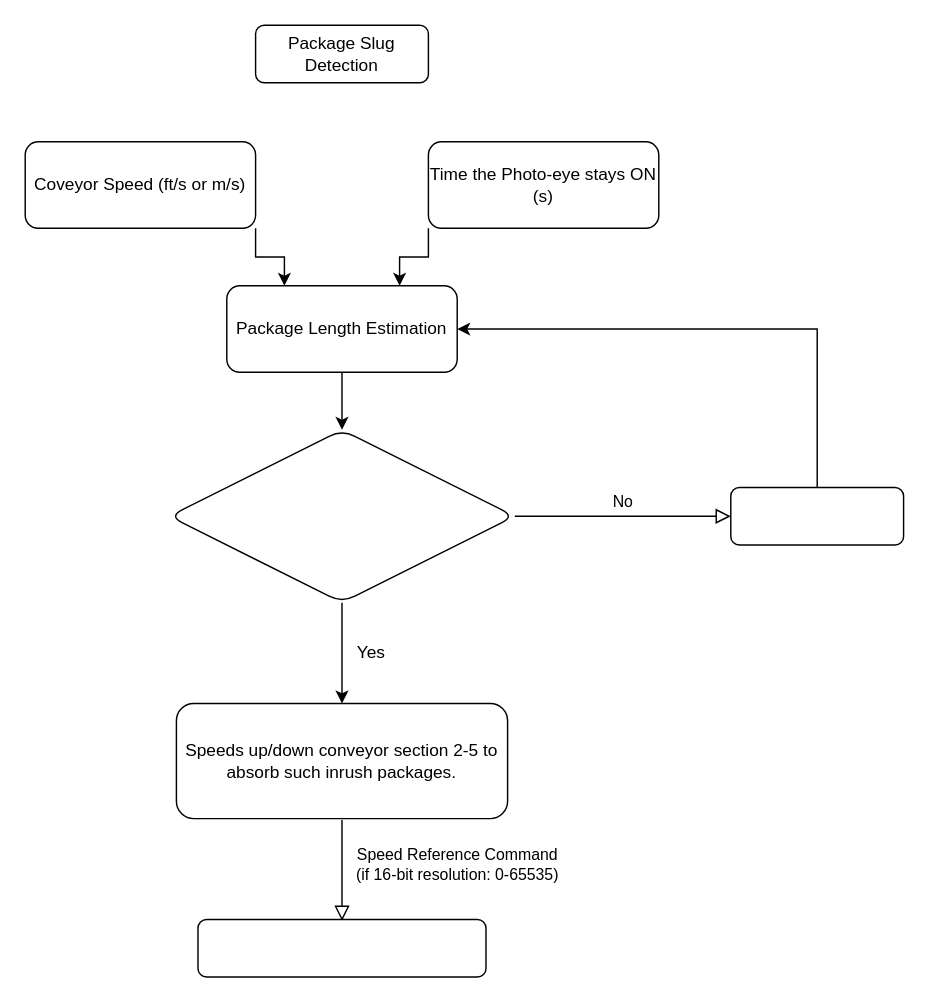
Some shapes in this 929 by 1002 pixel diagram are drawn without their labels. The shapes that lost their labels are listed below. From the top down, each one's centre as x and y in pixels, then its label:
At [341,515]: "Is detected package longer than one (1) conveyor section?".
At [816,515]: "Normal Speed".
At [341,947]: "Codesys Low Level".
